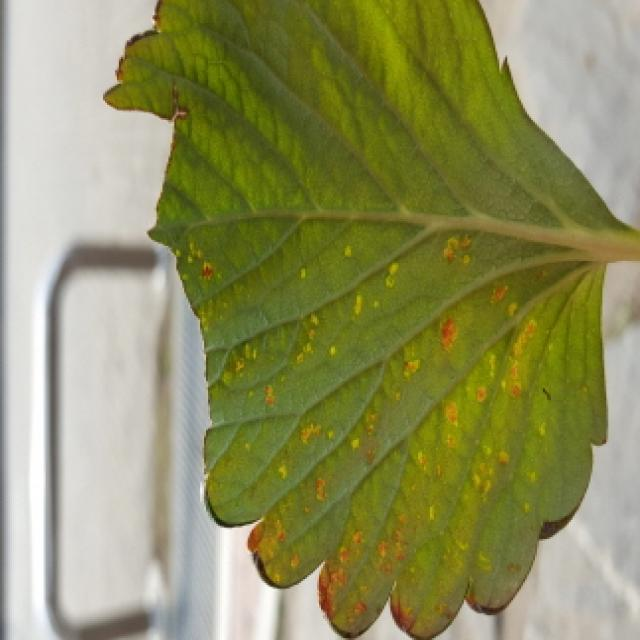Angular Leafspot: (155, 227, 594, 640)
